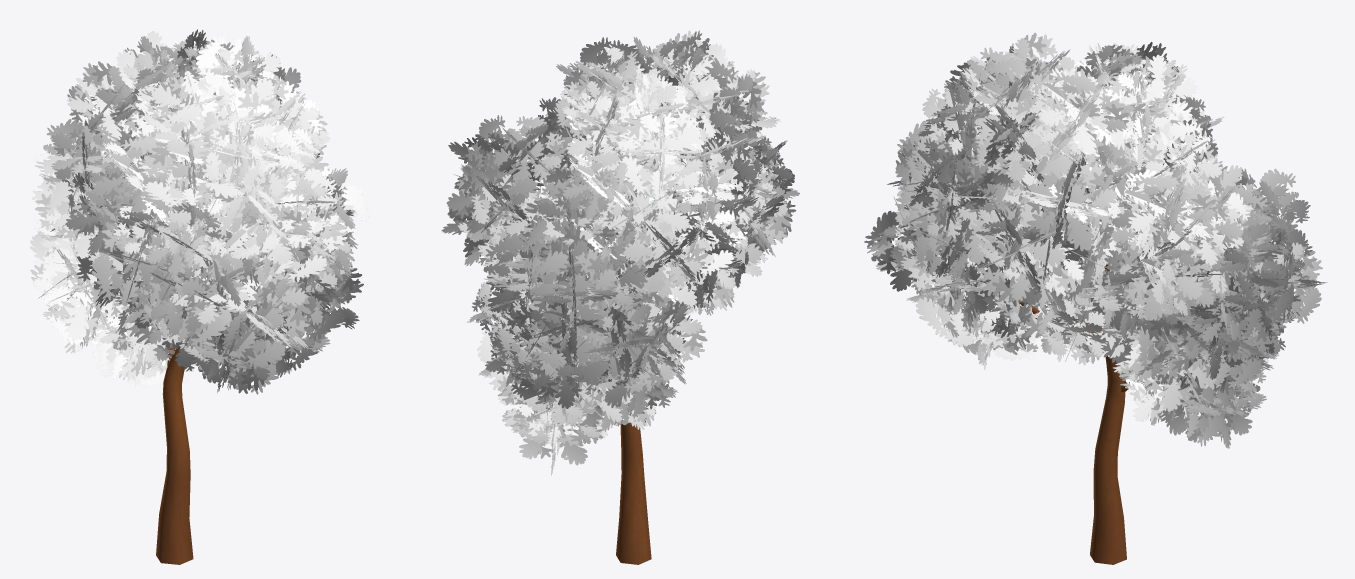
Rendered from STOak3.glb.
3 views of the same model, side by side, from view 1: azimuth 30°, elevation 25°; view 2: azimuth 150°, elevation 25°; view 3: azimuth 270°, elevation 25° (orthographic). The views are drawn at different scales.
Visible parts, largest first — view 1: Leaf.061; view 2: Leaf.061; view 3: Leaf.061.
Part boxes in pixels (x1,y1,x2,y2): Leaf.061: [30, 29, 372, 564]; Leaf.061: [441, 30, 799, 564]; Leaf.061: [864, 32, 1327, 564].
Size of the model in its own units: 12.04 by 19.41 by 16.27.
2 materials, 2 textured.
